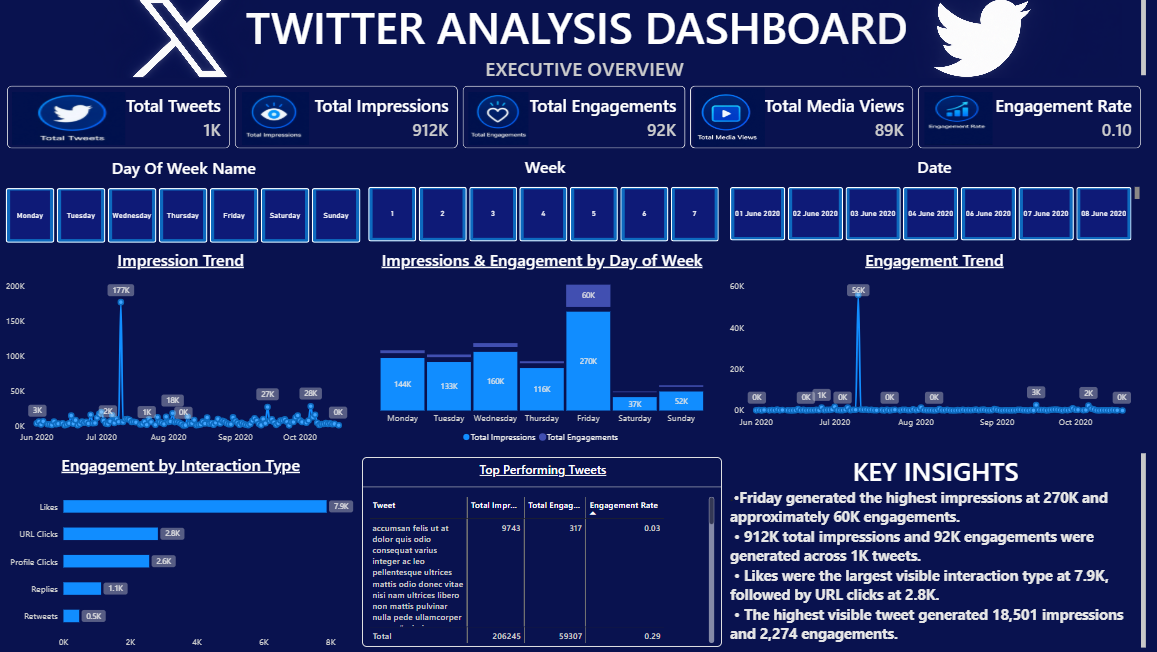

Layout of this report page (visuals, bound fields, positions):
{"tool":"powerbi","page":{"name":"Dashboard 1","canvas":[1920,1080],"ordinal":0},"visuals":[{"type":"shape","box":[10.9,0,1909.2,1080.4],"z":0},{"type":"textbox","box":[32.6,0,1867.6,133.9],"z":1000},{"type":"cardVisual","fields":{"Data":["Twitter Measure Table.Total Tweets","Twitter Measure Table.Total Impressions","Twitter Measure Table.Total Engagements","Twitter Measure Table.Total Media Views","Twitter Measure Table.Engagement Rate"]},"box":[25.3,146.6,1867.6,103.2],"z":2000},{"type":"image","box":[166.5,0,298.6,133.9],"z":3000},{"type":"image","box":[1398.9,0,461.5,133.9],"z":4000},{"type":"advancedSlicerVisual","title":"Day Of Week Name","fields":{"Values":["twitter_analysis_cleaned.day_of_week"]},"box":[22.6,263.5,586.6,142],"z":5000},{"type":"image","box":[32.6,155.6,186.4,86.9],"z":6000},{"type":"image","box":[410.8,155.6,110.4,86.9],"z":7000},{"type":"image","box":[783.6,155.6,99.5,86.9],"z":8000},{"type":"image","box":[1156.4,150.2,115.8,95.9],"z":9000},{"type":"image","box":[1534.6,155.6,112.2,86.9],"z":10000},{"type":"lineChart","title":"Impression Trend","fields":{"Y":["Twitter Measure Table.Total Impressions"],"Category":["twitter_analysis_cleaned.date.Variation.Date Hierarchy.Year","twitter_analysis_cleaned.date.Variation.Date Hierarchy.Month","twitter_analysis_cleaned.date.Variation.Date Hierarchy.Day"]},"box":[22.6,413.7,576.3,325.2],"z":11000},{"type":"advancedSlicerVisual","title":"Week","fields":{"Values":["twitter_analysis_cleaned.DayOfWeekNumber"]},"box":[619.6,261.4,582.5,142],"z":12000},{"type":"advancedSlicerVisual","title":"Date","fields":{"Values":["twitter_analysis_cleaned.date"]},"box":[1214.4,261.4,675.1,140],"z":13000},{"type":"tableEx","title":"Top Performing Tweets","fields":{"Values":["twitter_analysis_cleaned.Tweet","Twitter Measure Table.Total Impressions","Twitter Measure Table.Total Engagements","Twitter Measure Table.Engagement Rate"]},"box":[609.3,757.5,592.8,312.9],"z":14000},{"type":"clusteredBarChart","title":"Engagement by Interaction Type","fields":{"Category":["Engagement Type.Engagement Type"],"Y":["Engagement Type.Engagement Count"]},"box":[22.6,751.3,576.3,325.2],"z":15000},{"type":"lineChart","title":"Engagement Trend","fields":{"Category":["twitter_analysis_cleaned.date.Variation.Date Hierarchy.Year","twitter_analysis_cleaned.date.Variation.Date Hierarchy.Month","twitter_analysis_cleaned.date.Variation.Date Hierarchy.Day"],"Y":["Twitter Measure Table.Total Engagements"]},"box":[1214.4,413.7,675.1,300.5],"z":16000},{"type":"columnChart","title":"Impressions & Engagement by Day of Week","fields":{"Category":["twitter_analysis_cleaned.day_of_week"],"Y":["Twitter Measure Table.Total Impressions","Twitter Measure Table.Total Engagements"]},"box":[609.3,413.7,592.8,325.2],"z":17000},{"type":"textbox","box":[1214.4,751.3,685.4,325.2],"z":18000}]}

Visuals, with their boxes in screenshot pixels (x1, y1, x2, y2), scaled from the page's 1920x1080 canvas onto the 1157x652 screenshot:
shape: bbox=[7, 0, 1156, 651]
textbox: bbox=[20, 0, 1145, 81]
cardVisual - Twitter Measure Table.Total Tweets x Twitter Measure Table.Total Impressions: bbox=[15, 89, 1141, 151]
image: bbox=[100, 0, 280, 81]
image: bbox=[843, 0, 1121, 81]
"Day Of Week Name" advancedSlicerVisual: bbox=[14, 159, 367, 245]
image: bbox=[20, 94, 132, 146]
image: bbox=[248, 94, 314, 146]
image: bbox=[472, 94, 532, 146]
image: bbox=[697, 91, 767, 149]
image: bbox=[925, 94, 992, 146]
"Impression Trend" lineChart: bbox=[14, 250, 361, 446]
"Week" advancedSlicerVisual: bbox=[373, 158, 724, 244]
"Date" advancedSlicerVisual: bbox=[732, 158, 1139, 242]
"Top Performing Tweets" tableEx: bbox=[367, 457, 724, 646]
"Engagement by Interaction Type" clusteredBarChart: bbox=[14, 454, 361, 650]
"Engagement Trend" lineChart: bbox=[732, 250, 1139, 431]
"Impressions & Engagement by Day of Week" columnChart: bbox=[367, 250, 724, 446]
textbox: bbox=[732, 454, 1145, 650]
